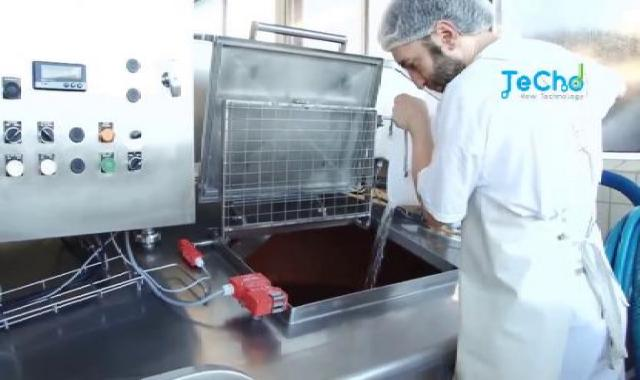hairnet: (380, 0, 505, 56)
